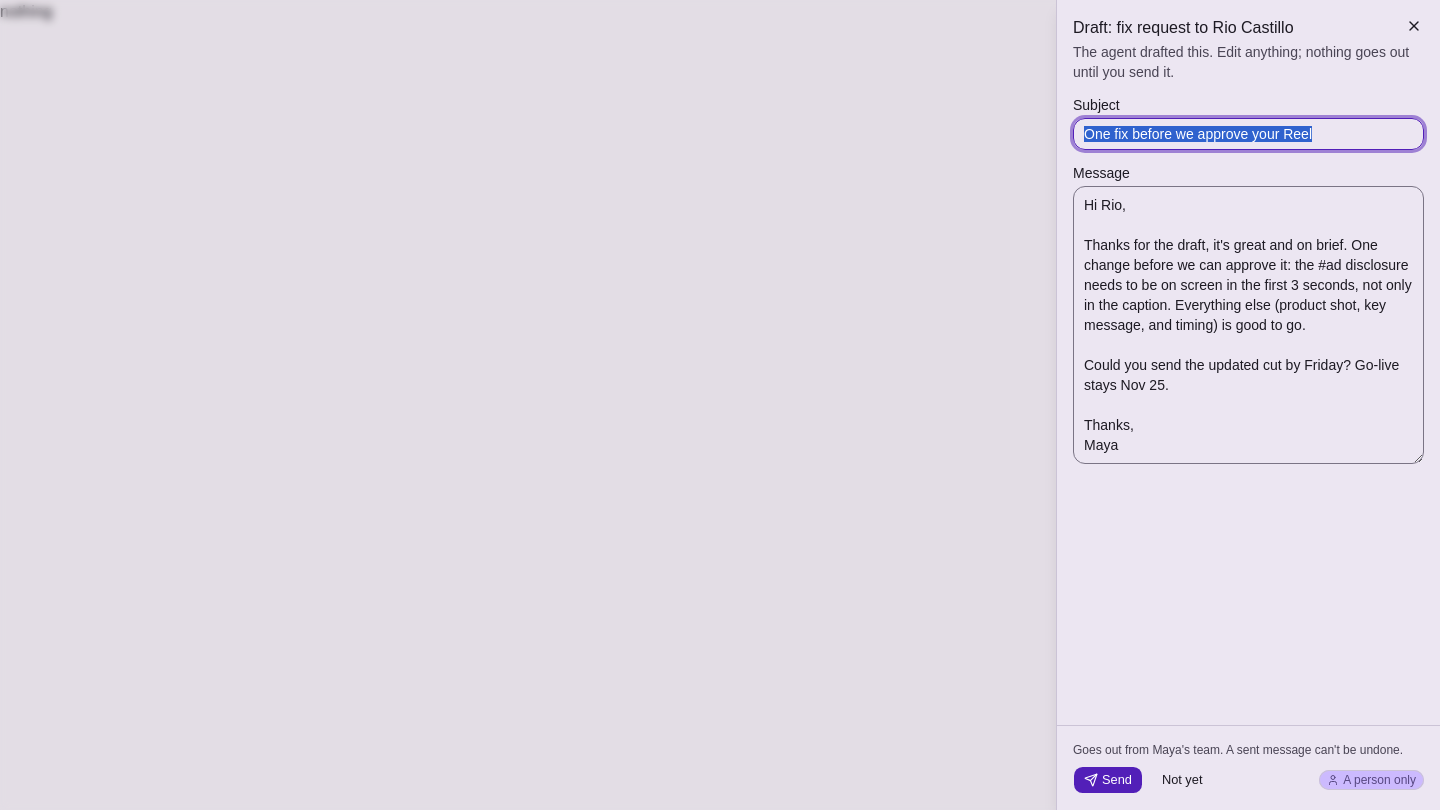
sends the subject and body as edited, not the agent's draft
Replace the text in the field labelled "Subject" with "Quick fix, Rio" at (1248, 134), box [1073,118,1424,150]
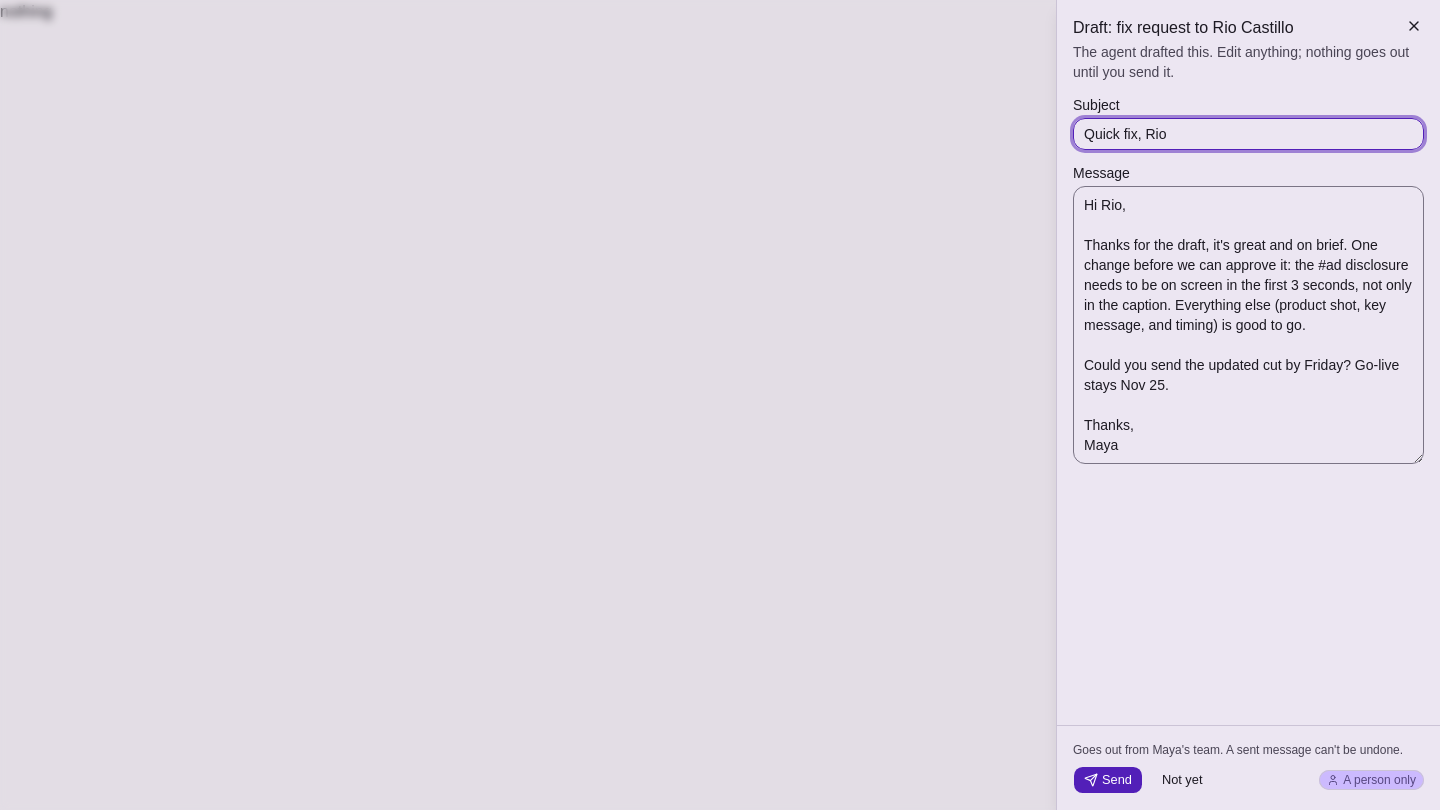
Replace the text in the text box labelled "Message" with "#ad on screen, please." at (1248, 325), box [1073,186,1424,464]
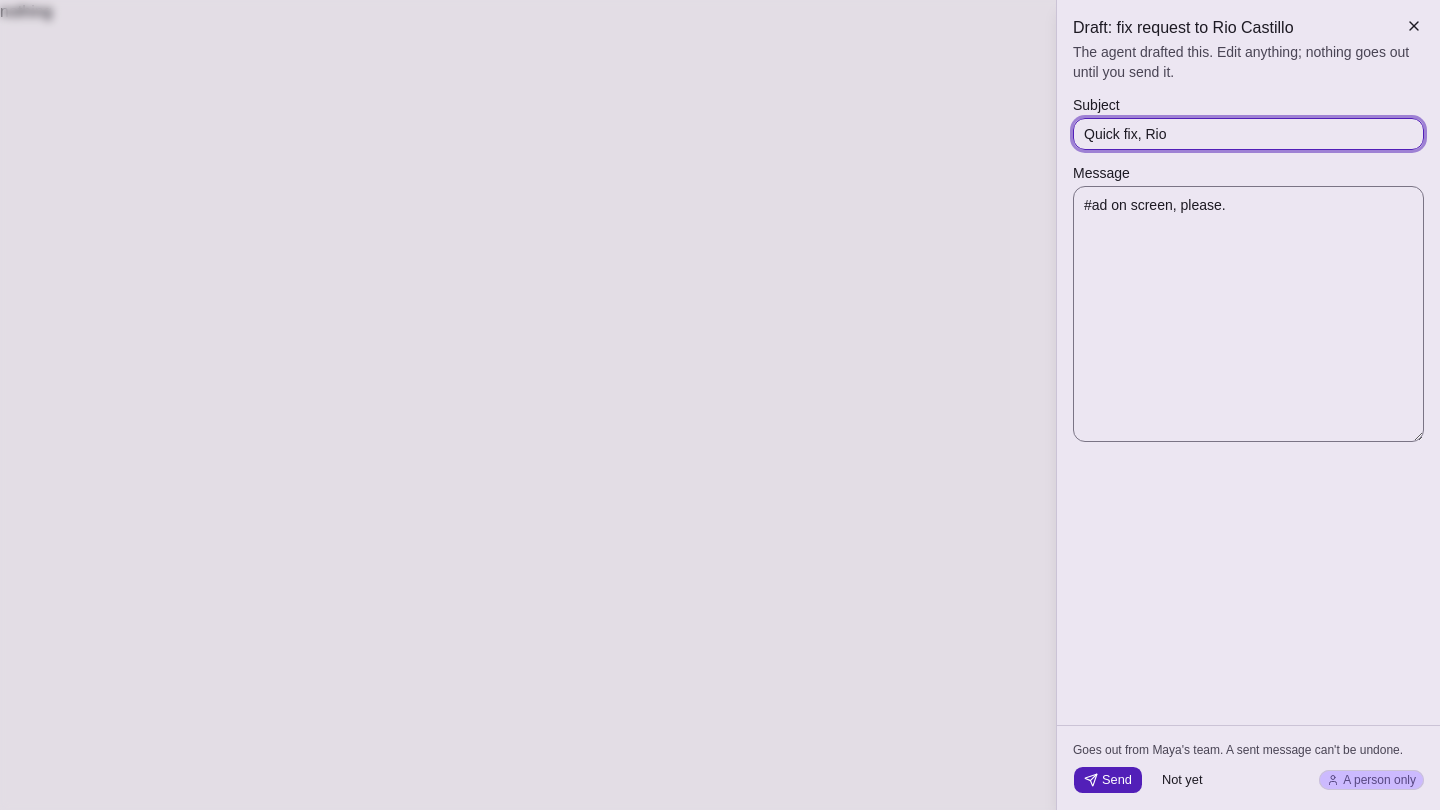
Expected: the text named "sent" reads "nothing", [0,3,52,20]
Click the button "Send" at (1108, 780), box [1073,766,1143,794]
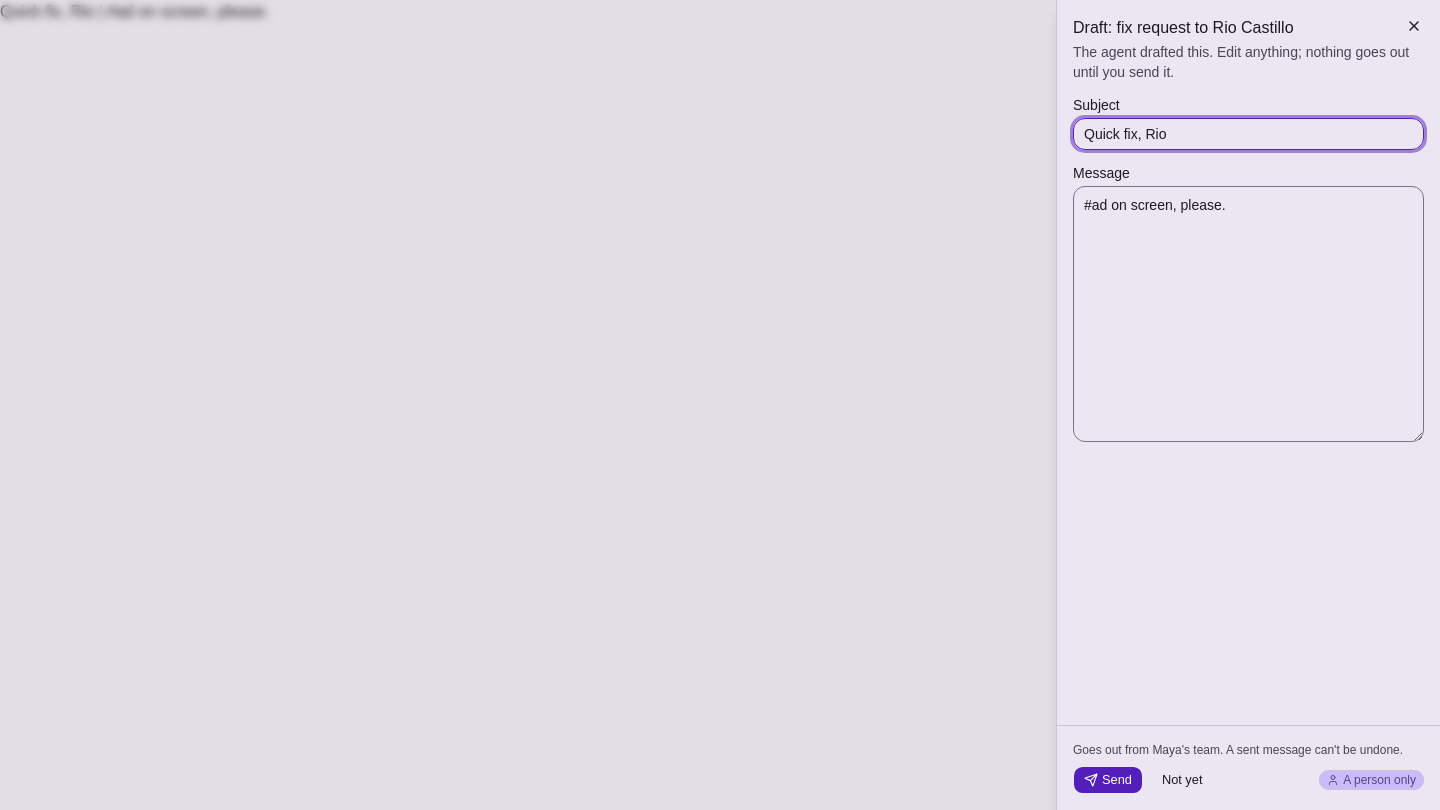
Now the text named "sent" reads "Quick fix, Rio | #ad on screen, please.", box [0,3,269,20]
